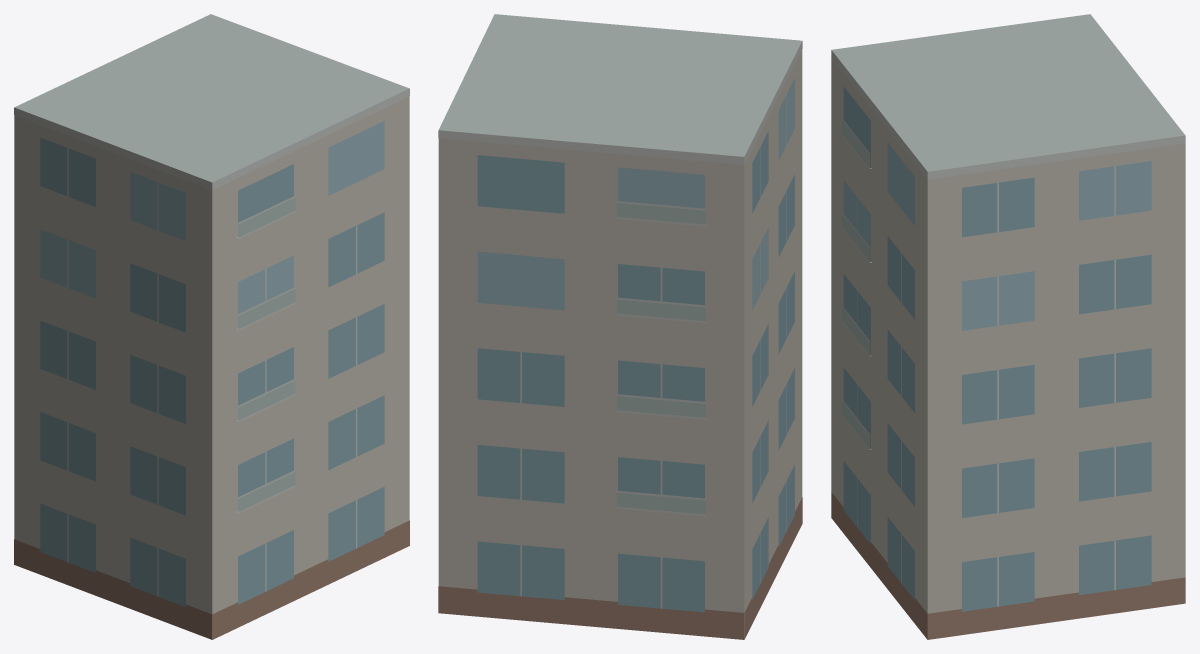
File: survey-upis-32568863.glb
3 renders of one model, left to right at view 1: azimuth 30°, elevation 25°; view 2: azimuth 150°, elevation 25°; view 3: azimuth 270°, elevation 25°, orthographic. The views are drawn at different scales.
Visible parts, largest first — view 1: survey-upis-32568863.tmp; view 2: survey-upis-32568863.tmp; view 3: survey-upis-32568863.tmp.
Boxes of the visible parts, <box> form: survey-upis-32568863.tmp: <box>14,14,409,639</box>; survey-upis-32568863.tmp: <box>438,14,802,639</box>; survey-upis-32568863.tmp: <box>831,14,1185,639</box>.
Bounding box in the file's own units: 10.5 × 14.5 × 9.96.
